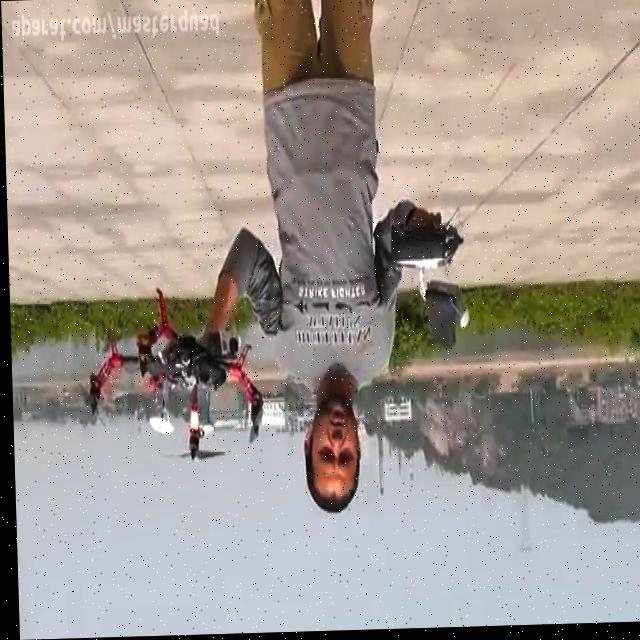drone: (72, 285, 266, 472)
